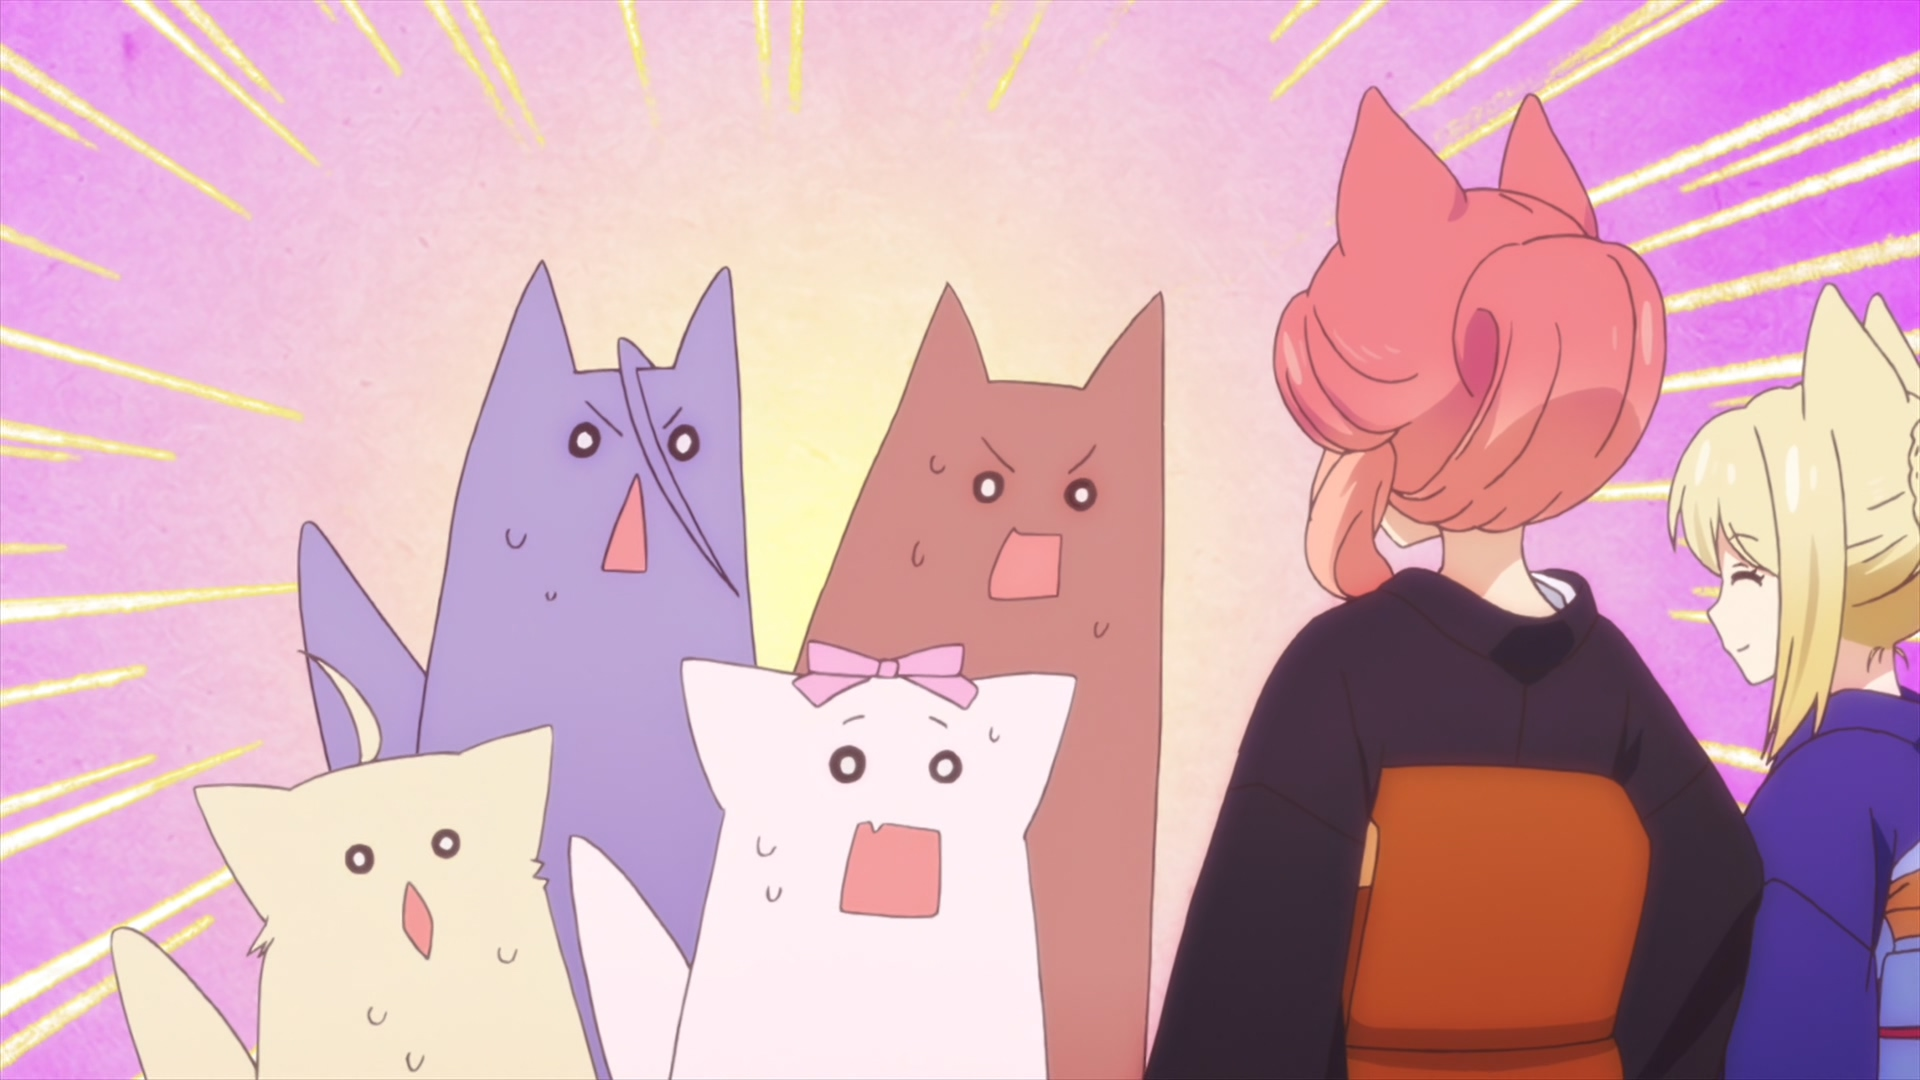枣: (793, 282, 1166, 1080)
柚: (113, 653, 593, 1080)
桐: (1669, 282, 1920, 1080)
椿: (1142, 84, 1767, 1080)
皋: (298, 261, 758, 1080)
莲: (571, 642, 1077, 1080)
